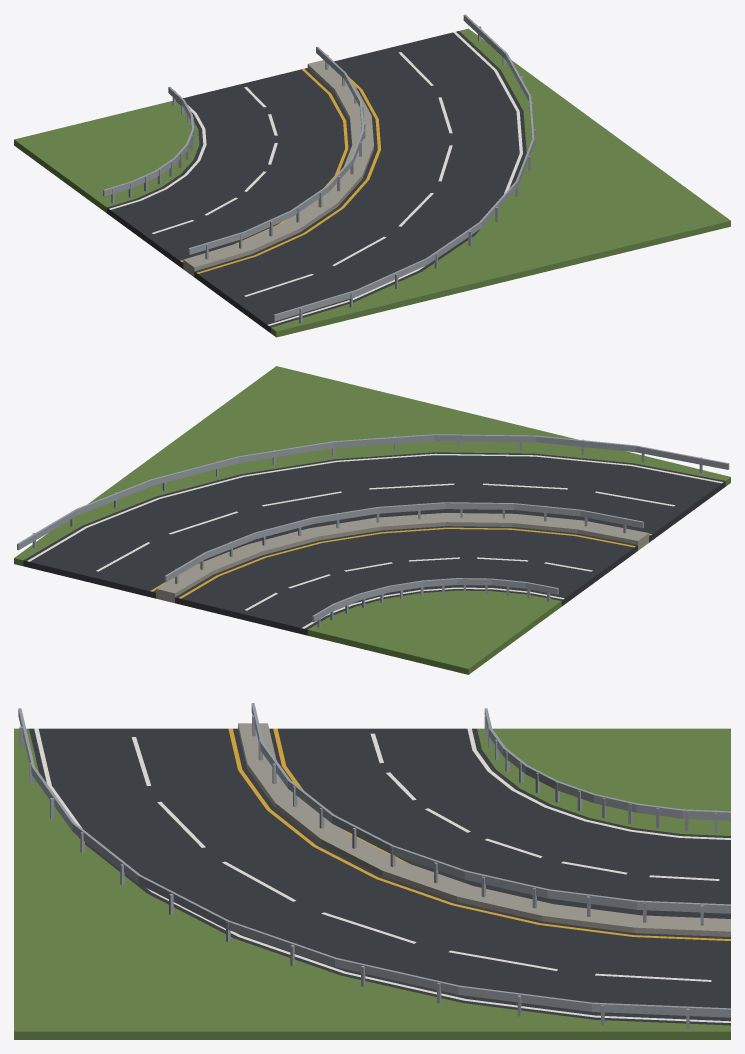
File: Highway_4Lane_Divided_Curve90_R.glb
The picture shows the model from 3 angles, top to bottom: view 1: azimuth 30°, elevation 25°; view 2: azimuth 150°, elevation 25°; view 3: azimuth 270°, elevation 25°; orthographic projection. The views are drawn at different scales.
Visible parts, largest first — view 1: Highway_4Lane_Divided_Curve90_R_Asphalt, Highway_4Lane_Divided_Curve90_R_Grass-edge, Highway_4Lane_Divided_Curve90_R_Metal, Highway_4Lane_Divided_Curve90_R_Concrete, Highway_4Lane_Divided_Curve90_R_PaintWhite, Highway_4Lane_Divided_Curve90_R_PaintYellow; view 2: Highway_4Lane_Divided_Curve90_R_Asphalt, Highway_4Lane_Divided_Curve90_R_Grass-edge, Highway_4Lane_Divided_Curve90_R_Metal, Highway_4Lane_Divided_Curve90_R_Concrete, Highway_4Lane_Divided_Curve90_R_PaintWhite, Highway_4Lane_Divided_Curve90_R_PaintYellow; view 3: Highway_4Lane_Divided_Curve90_R_Asphalt, Highway_4Lane_Divided_Curve90_R_Grass-edge, Highway_4Lane_Divided_Curve90_R_Metal, Highway_4Lane_Divided_Curve90_R_Concrete, Highway_4Lane_Divided_Curve90_R_PaintWhite, Highway_4Lane_Divided_Curve90_R_PaintYellow.
Part boxes in pixels (box(x1,y1,x2,y2)): Highway_4Lane_Divided_Curve90_R_Asphalt: box(107, 31, 526, 333); Highway_4Lane_Divided_Curve90_R_Grass-edge: box(14, 28, 730, 337); Highway_4Lane_Divided_Curve90_R_Metal: box(103, 14, 535, 323); Highway_4Lane_Divided_Curve90_R_Concrete: box(183, 60, 373, 276); Highway_4Lane_Divided_Curve90_R_PaintWhite: box(109, 31, 522, 325); Highway_4Lane_Divided_Curve90_R_PaintYellow: box(180, 68, 380, 273); Highway_4Lane_Divided_Curve90_R_Asphalt: box(23, 452, 725, 635); Highway_4Lane_Divided_Curve90_R_Grass-edge: box(14, 366, 730, 674); Highway_4Lane_Divided_Curve90_R_Metal: box(17, 434, 729, 627); Highway_4Lane_Divided_Curve90_R_Concrete: box(156, 513, 648, 603); Highway_4Lane_Divided_Curve90_R_PaintWhite: box(27, 453, 723, 628); Highway_4Lane_Divided_Curve90_R_PaintYellow: box(150, 527, 651, 598); Highway_4Lane_Divided_Curve90_R_Asphalt: box(29, 728, 730, 1025); Highway_4Lane_Divided_Curve90_R_Grass-edge: box(14, 728, 730, 1039); Highway_4Lane_Divided_Curve90_R_Metal: box(18, 703, 730, 1029); Highway_4Lane_Divided_Curve90_R_Concrete: box(238, 723, 730, 936); Highway_4Lane_Divided_Curve90_R_PaintWhite: box(34, 728, 730, 1022); Highway_4Lane_Divided_Curve90_R_PaintYellow: box(228, 728, 730, 940).
Size of the model in its own units: 24 by 1.25 by 24.
